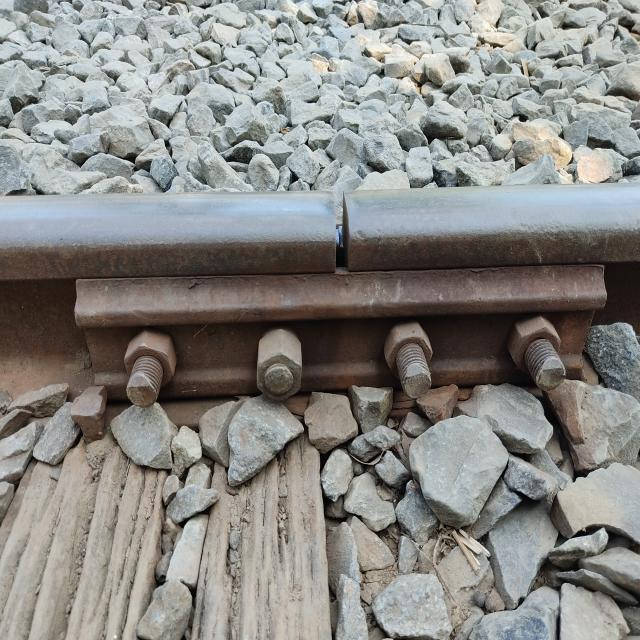Faults: (317, 192, 365, 271)
